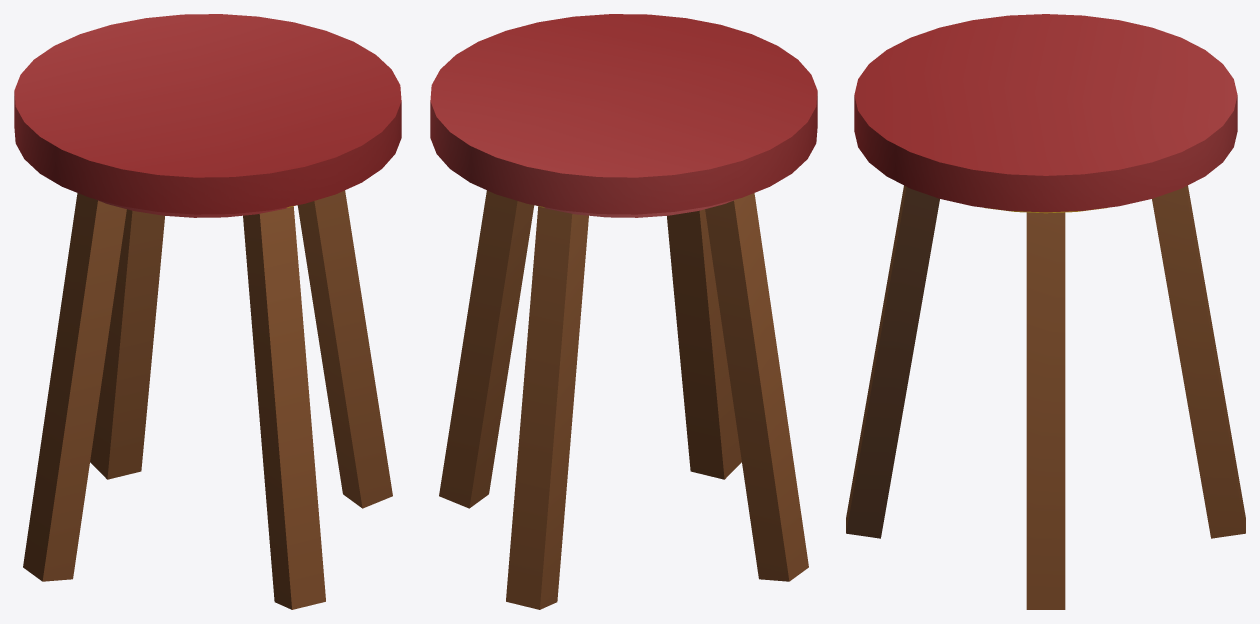
File: barchair.fbx
The picture shows the model from 3 angles, left to right: view 1: azimuth 30°, elevation 25°; view 2: azimuth 150°, elevation 25°; view 3: azimuth 270°, elevation 25°; orthographic projection.
Visible parts, largest first — view 1: Cylinder.002; view 2: Cylinder.002; view 3: Cylinder.002.
Boxes of the visible parts, box(x1,y1,x2,y2) form: Cylinder.002: box(14, 14, 401, 609); Cylinder.002: box(430, 14, 817, 609); Cylinder.002: box(846, 14, 1245, 609).
Size of the model in its own units: 2.09 by 2.51 by 2.09.
Materials: 1 (1 with a texture image).
